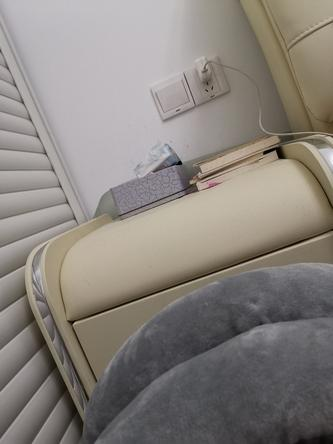switch: (158, 87, 189, 104)
